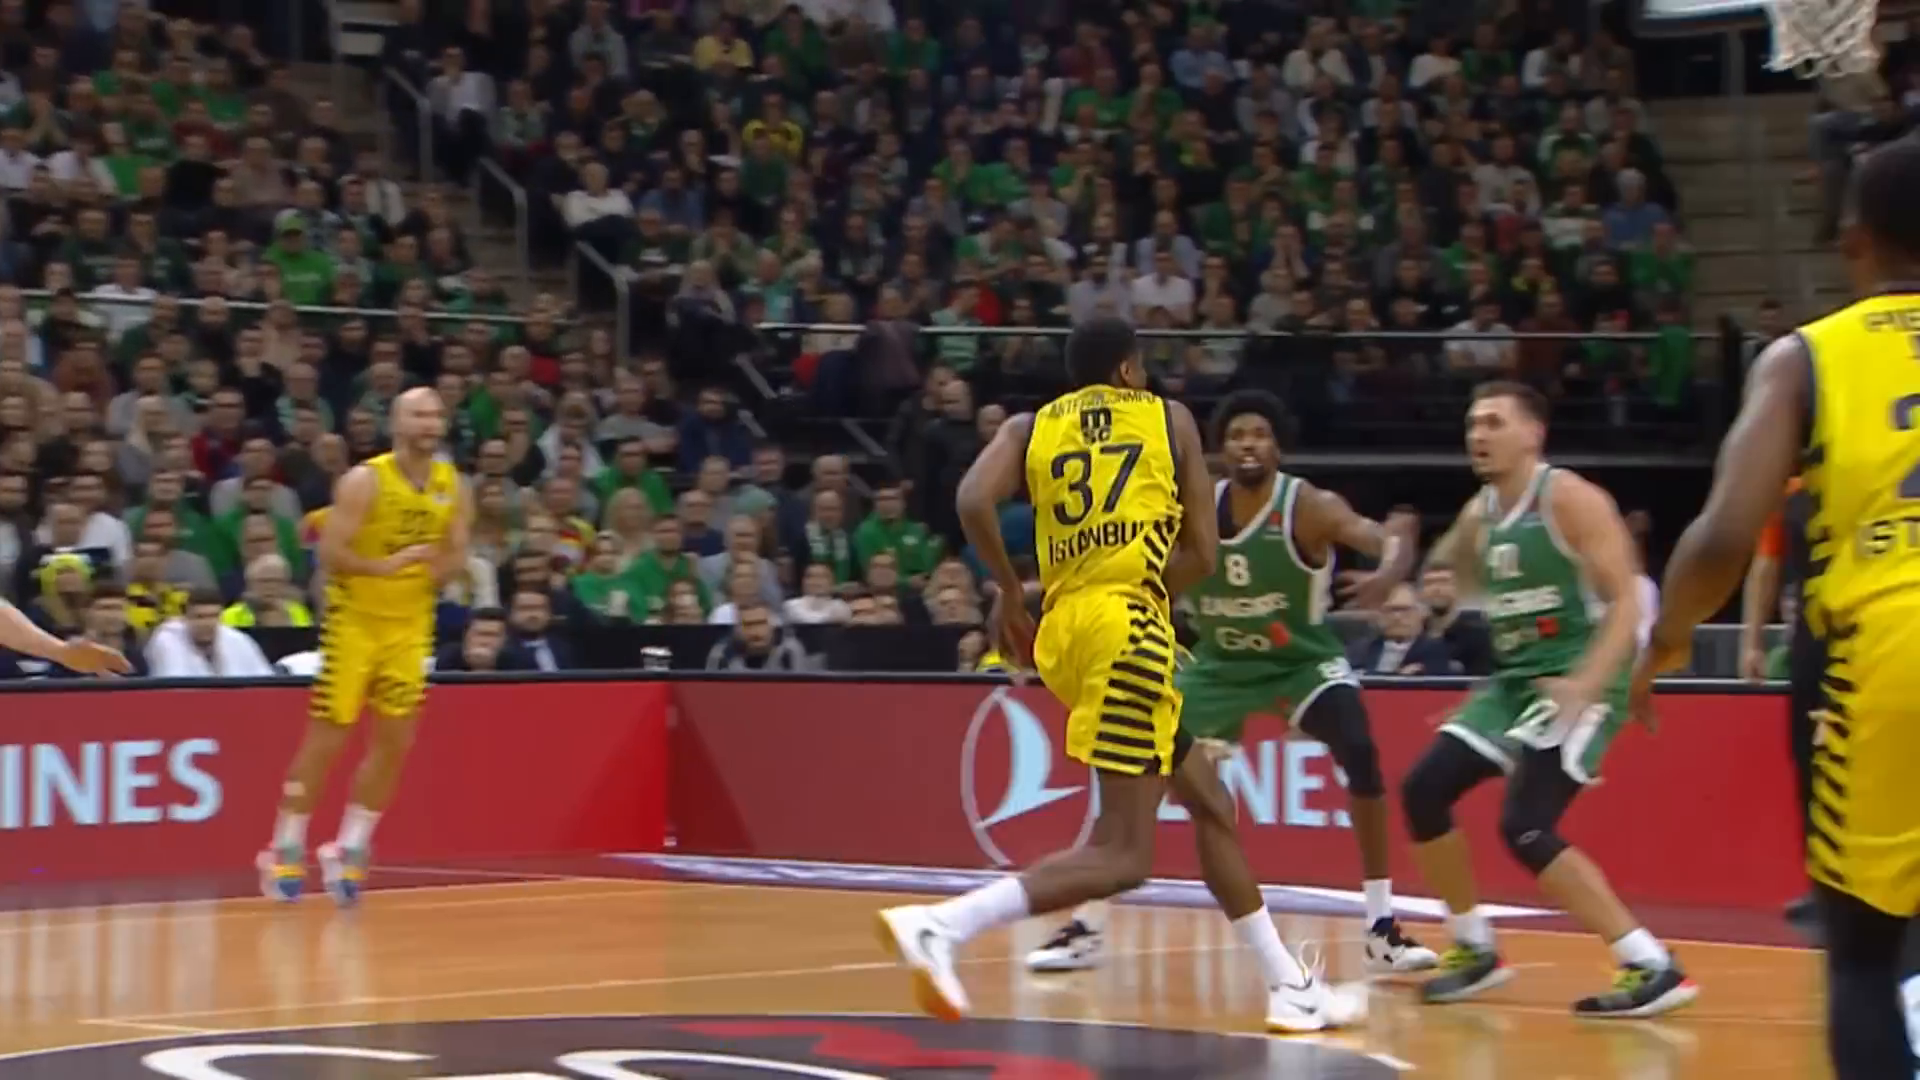ball: (982, 584, 1068, 673)
